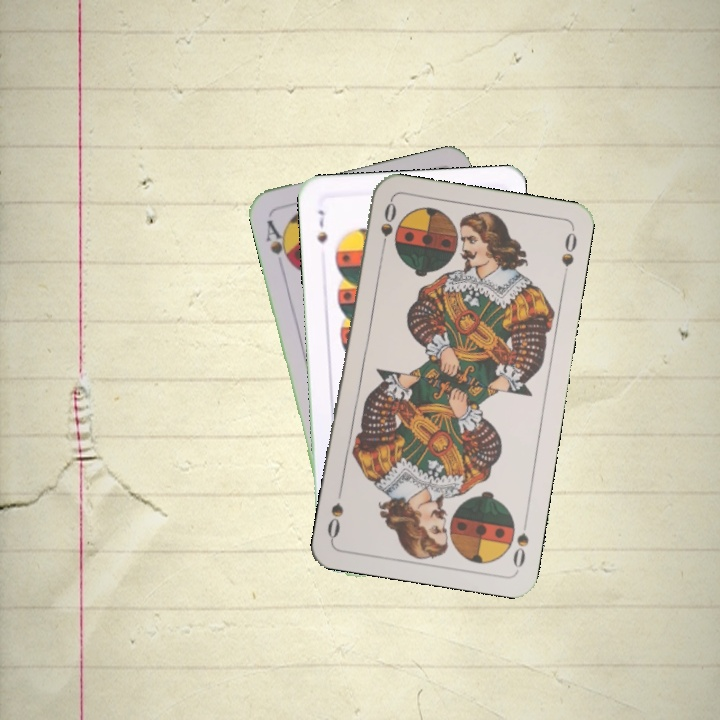S7: (313, 206, 330, 246)
SA: (261, 215, 295, 269)
SO: (508, 513, 532, 570), (376, 198, 399, 257)
